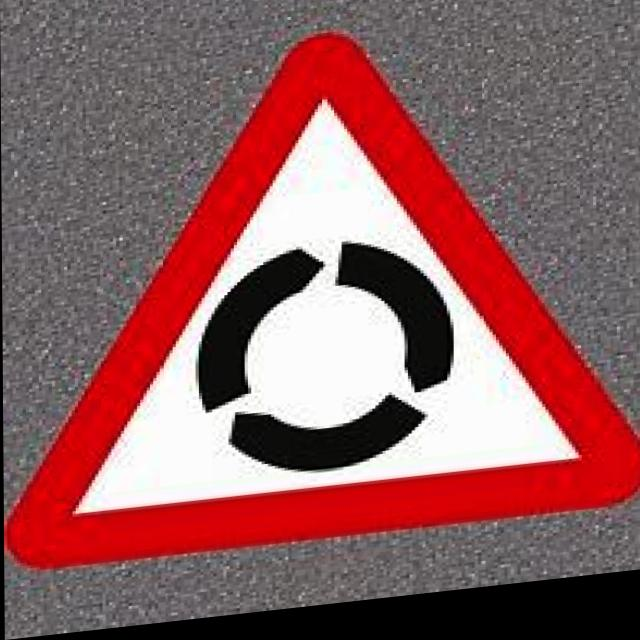ROUNDABOUT: (0, 10, 640, 577)
